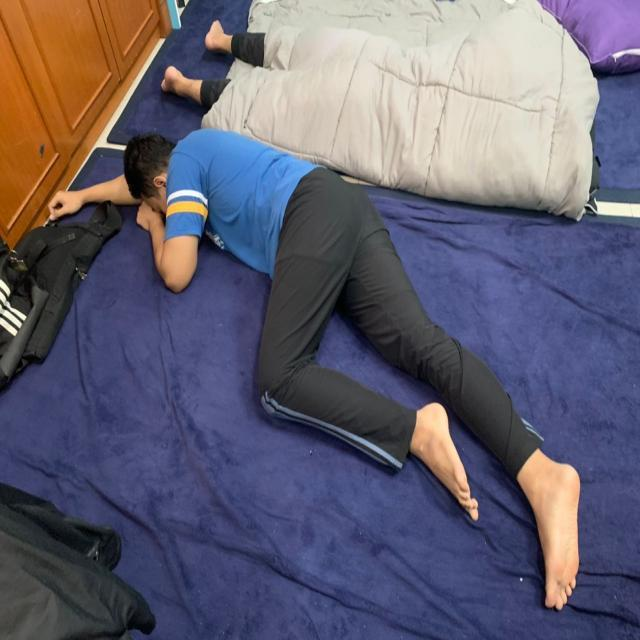fall: (49, 134, 581, 608)
